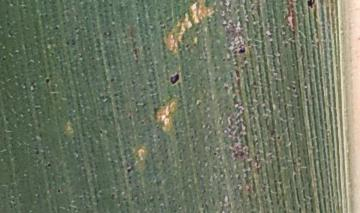tarspot: (167, 71, 181, 86), (305, 1, 318, 9), (236, 47, 247, 55), (43, 76, 52, 85), (125, 166, 133, 174), (45, 161, 53, 169), (211, 150, 219, 158), (108, 76, 116, 84), (1, 55, 7, 64), (70, 37, 75, 47), (34, 148, 40, 156), (53, 24, 59, 31), (98, 128, 104, 135), (64, 39, 71, 45), (107, 2, 114, 8), (290, 85, 296, 91), (55, 187, 61, 193), (276, 135, 281, 141)
